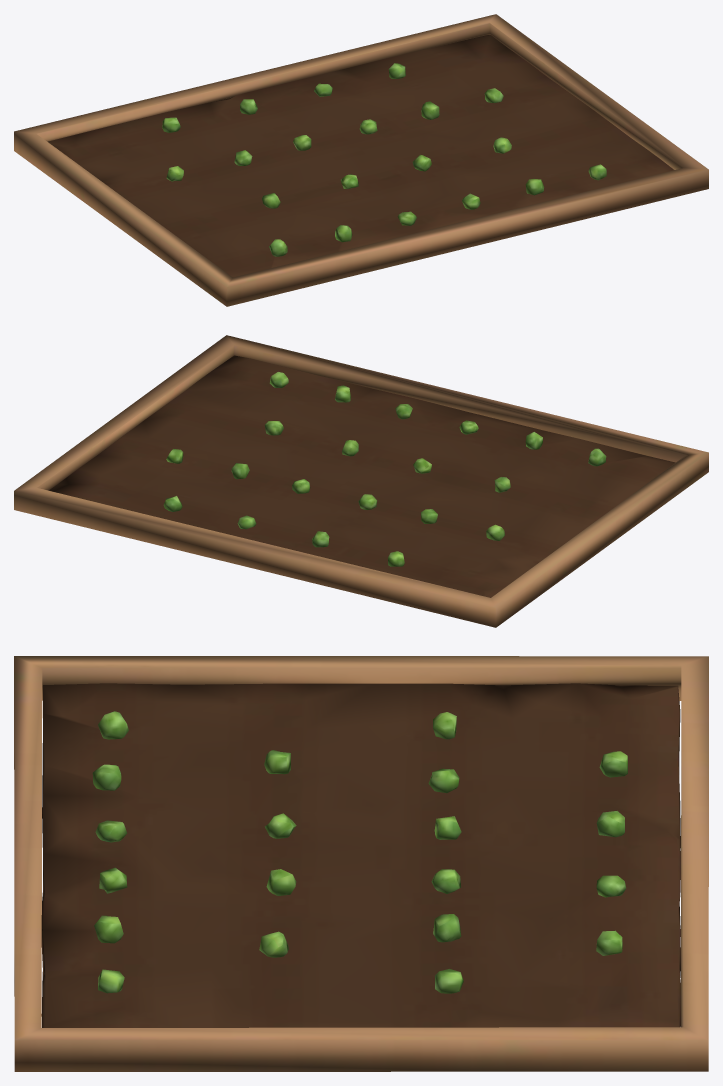
File: farm-field.glb
The picture shows the model from 3 angles, top to bottom: view 1: azimuth 30°, elevation 25°; view 2: azimuth 150°, elevation 25°; view 3: azimuth 270°, elevation 25°; orthographic projection. The views are drawn at different scales.
Visible parts, largest first — view 1: soil; view 2: soil; view 3: soil.
Boxes of the visible parts, box(x1,y1,x2,y2) form: soil: box(14, 14, 708, 306); soil: box(14, 335, 708, 627); soil: box(14, 656, 708, 1071).
Size of the model in its own units: 4.27 by 0.2235 by 3.26.
Materials: 1 (1 with a texture image).
